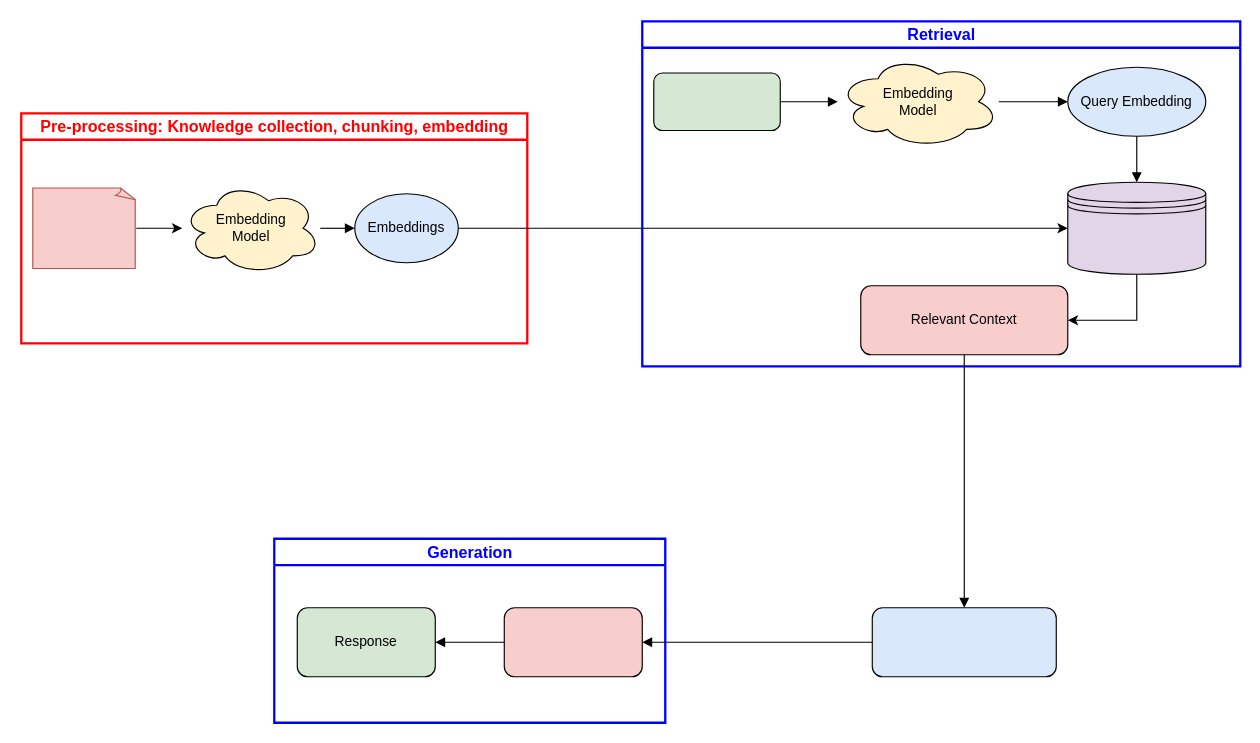
The diagram is 1260 pixels wide and 743 high, and some of its shapes have lost their labels. Here are the shapes that lost their labels. From the top down, the centre of each, then its label:
the point at 716,101: Query
the point at 84,228: Autosar Documents
the point at 1136,227: Vector DB
the point at 572,642: LLM Model
the point at 963,642: Query + Context
